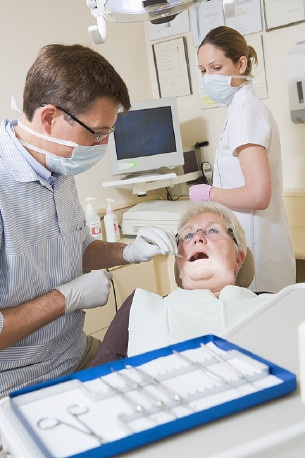Mask: (194, 59, 238, 103)
